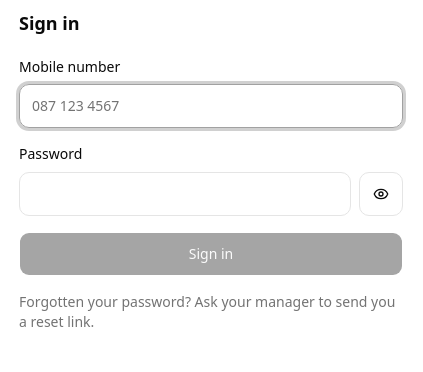
Test: AC3 / AC4 — a wrong password keeps the number, clears the password, moves focus › shows the non-distinguishing line and clears only the password
Type "0871234567" into the field labelled "Mobile number" at (211, 106), box left=19, top=84, right=403, bottom=128
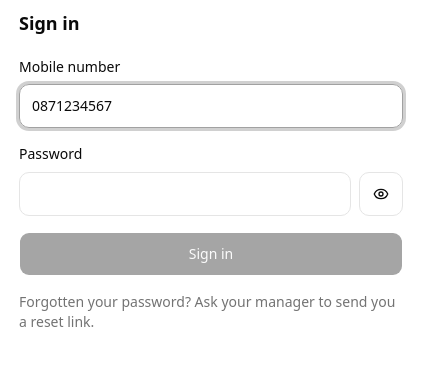
Type "wrongpass" into the password field labelled "Password" at (185, 194), box left=19, top=172, right=351, bottom=216
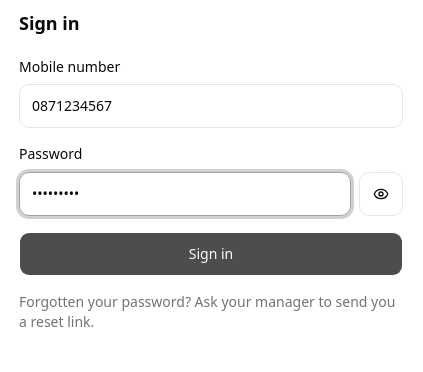
Click the button "Sign in" at (211, 254), box left=19, top=232, right=403, bottom=276
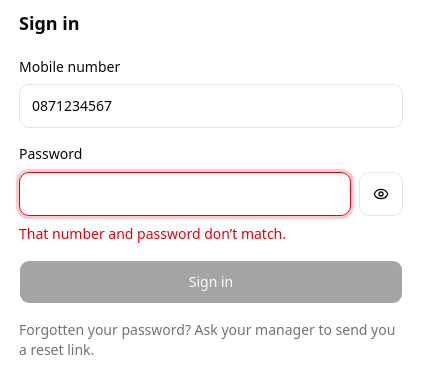
Expected: the text "That number and password don’t match." is shown, left=19, top=224, right=286, bottom=242
Expected: the password field labelled "Password" is empty, left=19, top=172, right=351, bottom=216
